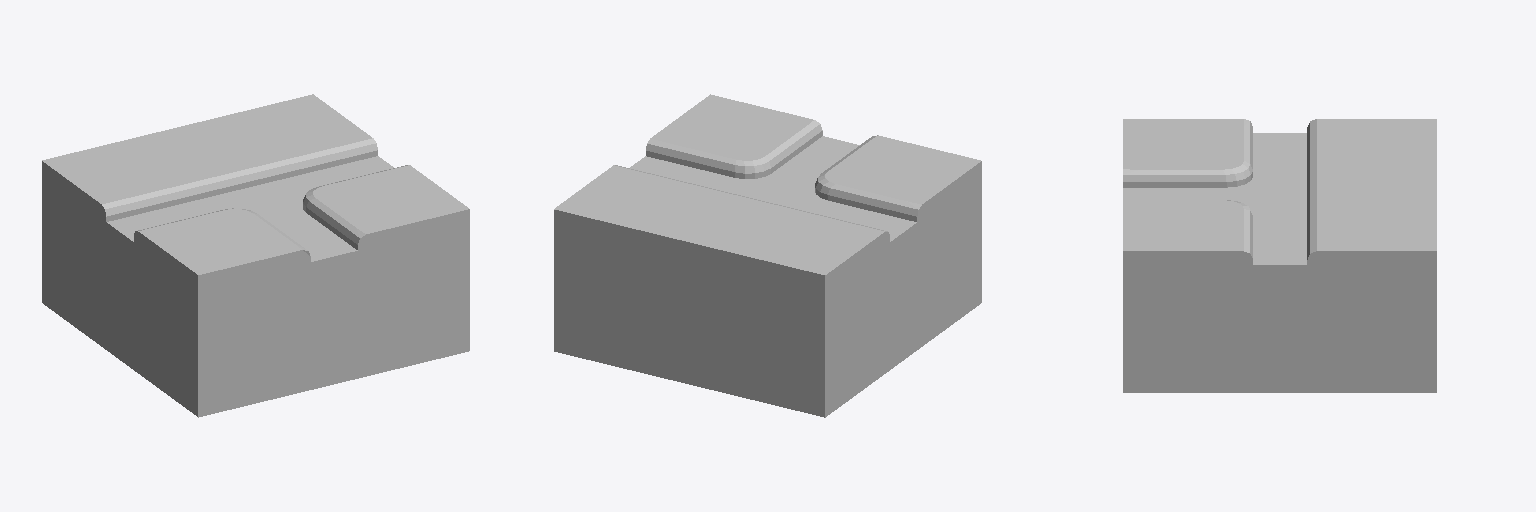
File: square_sand_roadD.obj
3 renders of one model, left to right at view 1: azimuth 30°, elevation 25°; view 2: azimuth 150°, elevation 25°; view 3: azimuth 270°, elevation 25°, orthographic.
Parts seen in each view (by area): view 1: square_sand_roadD_Cube.384; view 2: square_sand_roadD_Cube.384; view 3: square_sand_roadD_Cube.384.
Boxes of the visible parts, <box> form: square_sand_roadD_Cube.384: <box>42,94,469,417</box>; square_sand_roadD_Cube.384: <box>554,94,981,417</box>; square_sand_roadD_Cube.384: <box>1123,119,1436,392</box>.
Size of the model in its own units: 2 by 1 by 2.